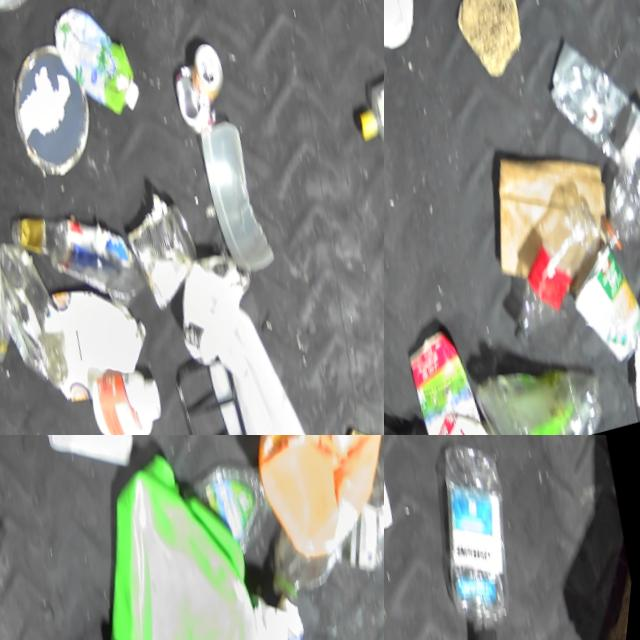can: (169, 244, 279, 371), (124, 194, 221, 315), (564, 236, 640, 373), (163, 37, 245, 138)
milk_jug: (193, 294, 344, 435), (38, 271, 172, 406), (0, 435, 179, 494)
non_white_jug: (65, 435, 302, 640), (234, 435, 384, 572), (405, 315, 534, 435), (43, 0, 156, 130)
plastic_bottle: (413, 435, 557, 640), (488, 189, 640, 360), (4, 188, 166, 333), (181, 452, 291, 568), (580, 96, 640, 257), (267, 516, 360, 606), (346, 57, 384, 160)
